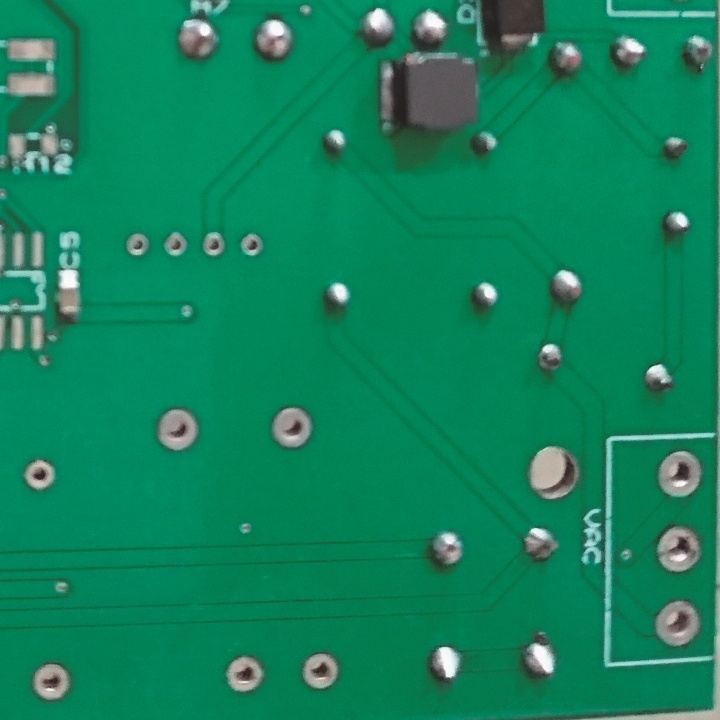F: (654, 597, 701, 649), (656, 450, 702, 503), (155, 404, 199, 455), (657, 526, 701, 572), (271, 405, 313, 452), (224, 654, 266, 697), (299, 650, 341, 693), (30, 662, 73, 701), (20, 457, 58, 492), (237, 230, 264, 260), (201, 228, 227, 259), (123, 229, 150, 258), (162, 230, 187, 260)
